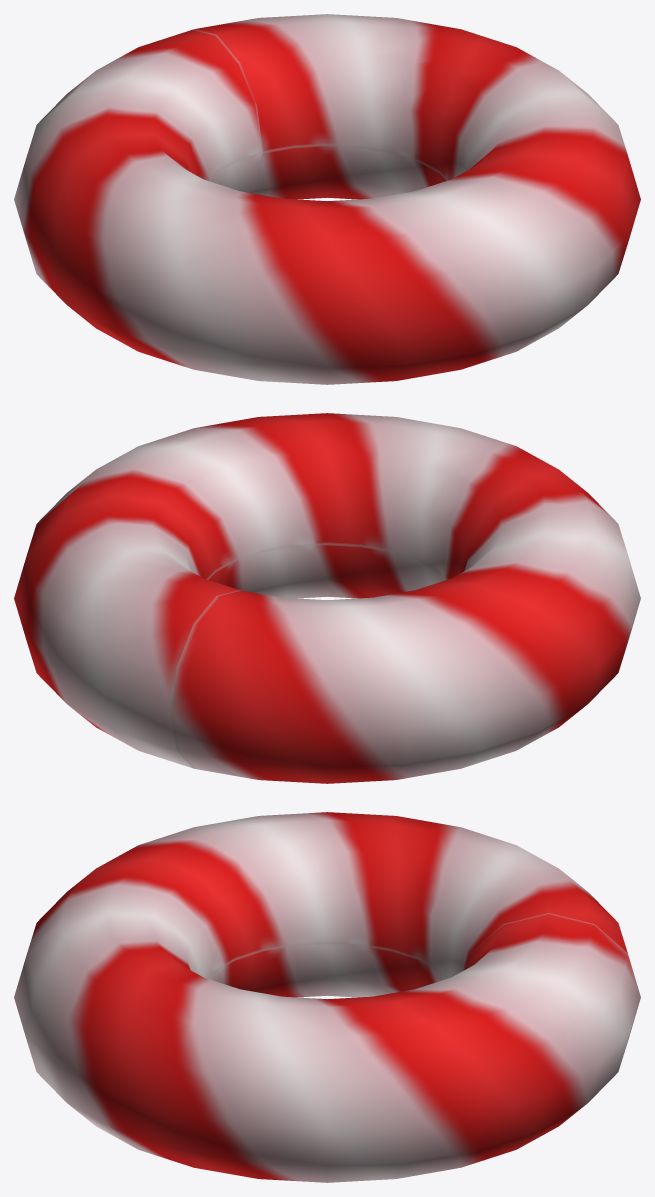
The model's file is CANDY.fbx.
The picture shows the model from 3 angles, top to bottom: view 1: azimuth 30°, elevation 25°; view 2: azimuth 150°, elevation 25°; view 3: azimuth 270°, elevation 25°; orthographic projection.
Parts seen in each view (by area): view 1: FLOAT_CANDY; view 2: FLOAT_CANDY; view 3: FLOAT_CANDY.
Part boxes in pixels (bbox=[...]): FLOAT_CANDY: bbox=[14, 14, 640, 384]; FLOAT_CANDY: bbox=[14, 413, 640, 783]; FLOAT_CANDY: bbox=[14, 812, 640, 1182].
Bounding box in the file's own units: 170 × 50 × 170.
